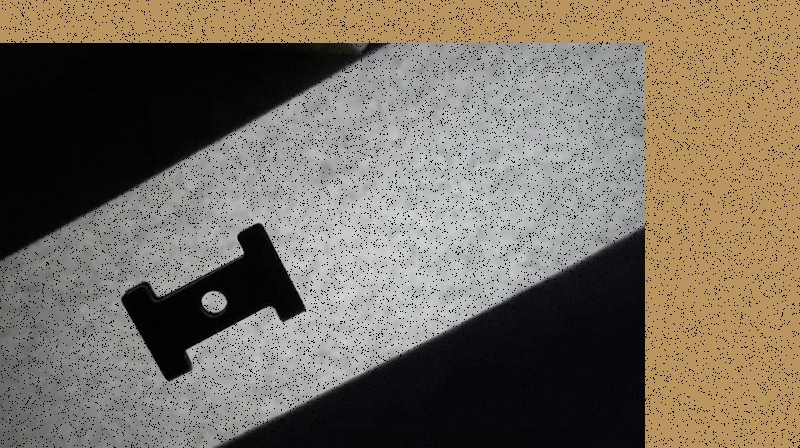O002: (120, 220, 307, 383)
